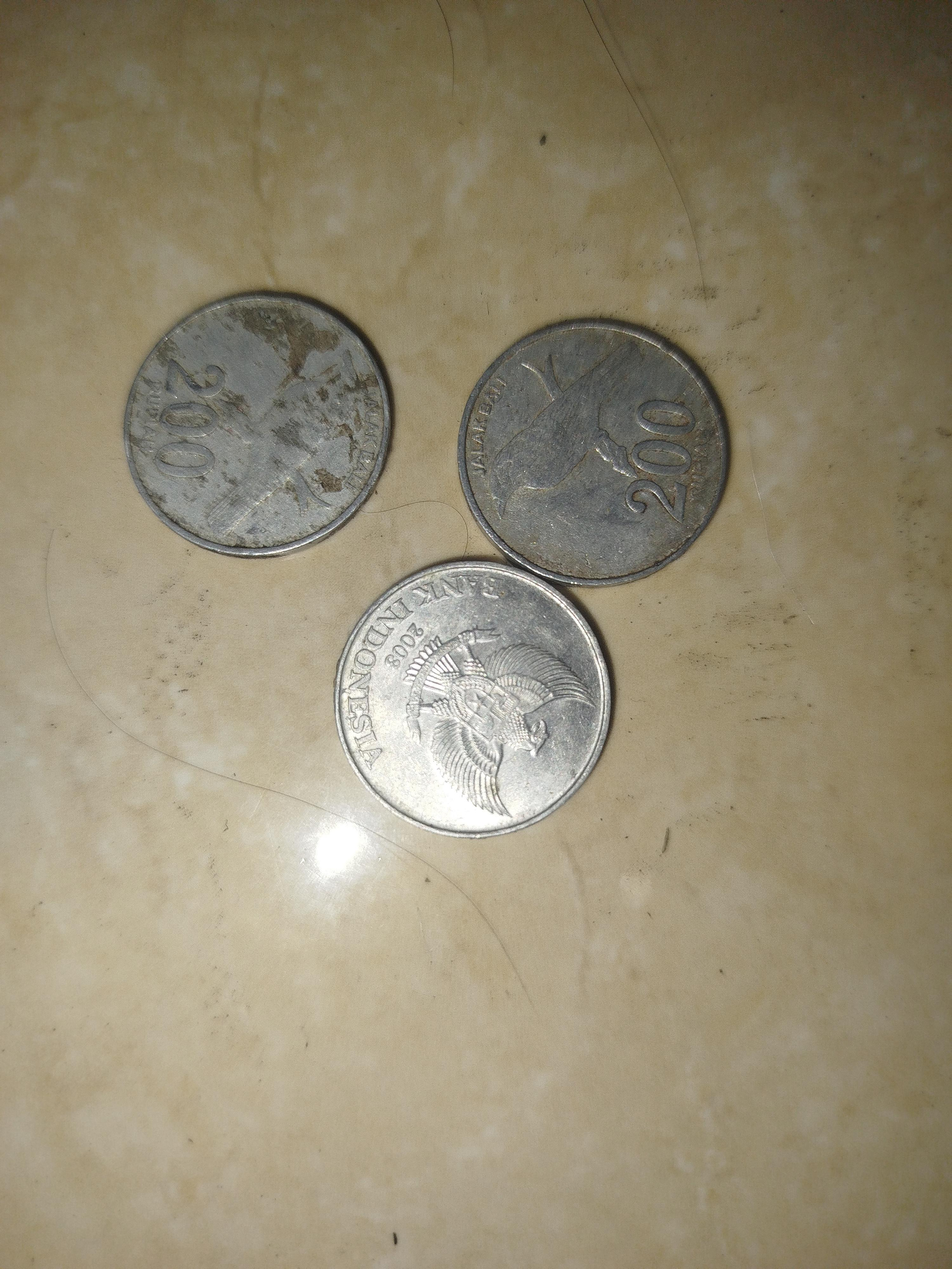coin_200_e2003: (333, 560, 613, 840), (120, 288, 396, 562), (458, 316, 734, 590)
